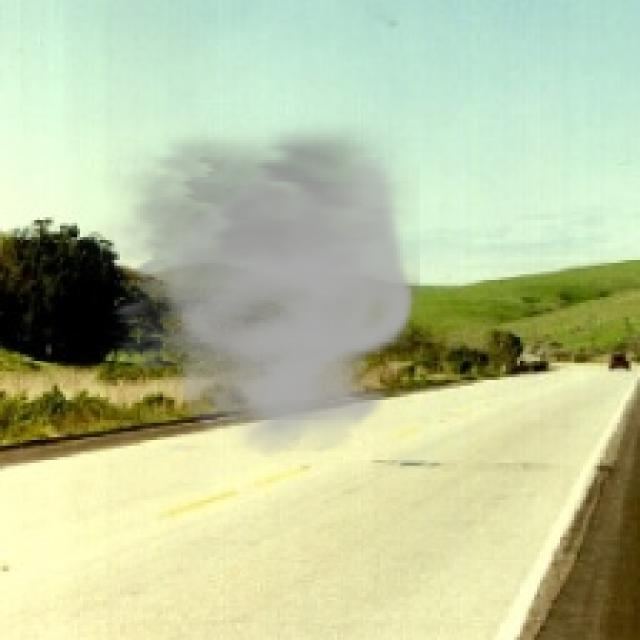smoke: (74, 112, 420, 457)
